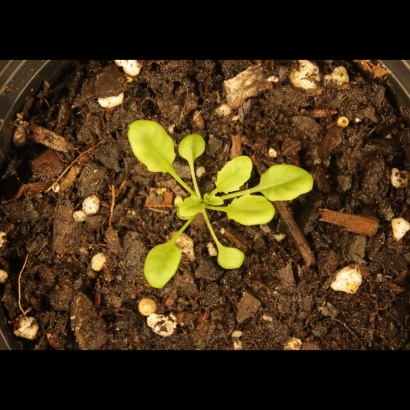leaf: (126, 118, 178, 175), (260, 156, 318, 207), (140, 233, 181, 297), (226, 191, 279, 237), (210, 152, 254, 198), (175, 127, 208, 165), (214, 238, 245, 275), (171, 194, 204, 222), (203, 186, 226, 209)
